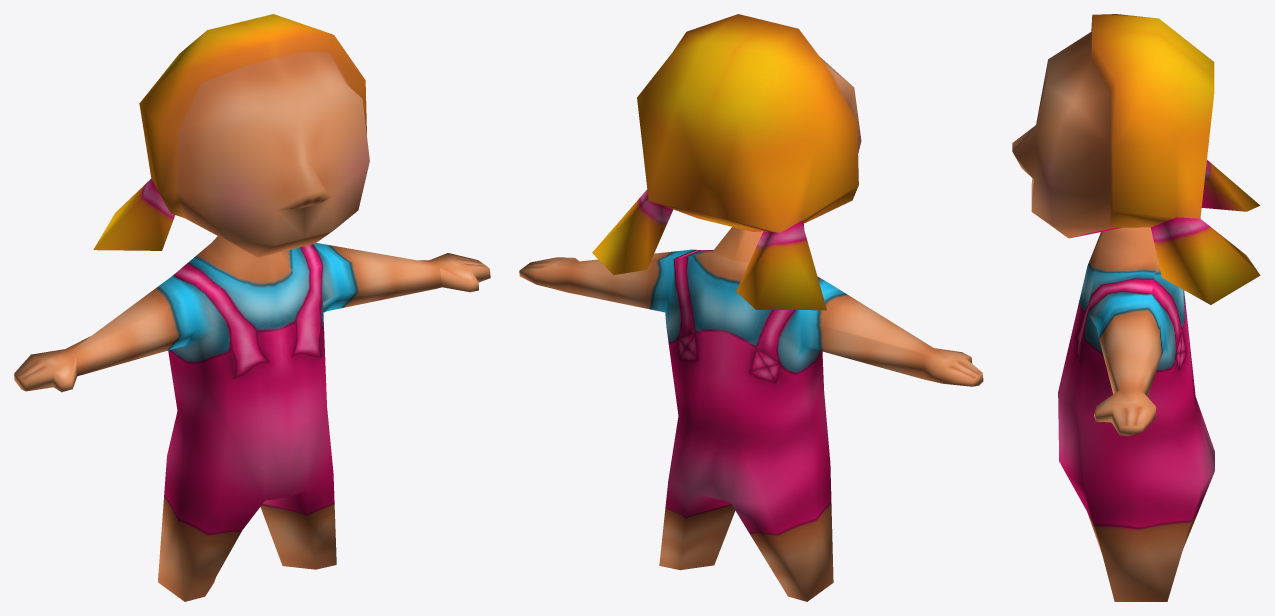
Rendered from HD_Family_Girl_1x1_Mesh_Tekstur_001.FBX.
The picture shows the model from 3 angles, left to right: view 1: azimuth 30°, elevation 25°; view 2: azimuth 150°, elevation 25°; view 3: azimuth 270°, elevation 25°; orthographic projection. The views are drawn at different scales.
Visible parts, largest first — view 1: HD_Family_Girl_1x1_Mesh; view 2: HD_Family_Girl_1x1_Mesh; view 3: HD_Family_Girl_1x1_Mesh.
Boxes of the visible parts, x1,y1,x2,y2 form: HD_Family_Girl_1x1_Mesh: (14,14,490,601); HD_Family_Girl_1x1_Mesh: (519,14,983,601); HD_Family_Girl_1x1_Mesh: (1012,14,1260,601).
Size of the model in its own units: 195 by 220 by 91.92.
Materials: 1 (1 with a texture image).
